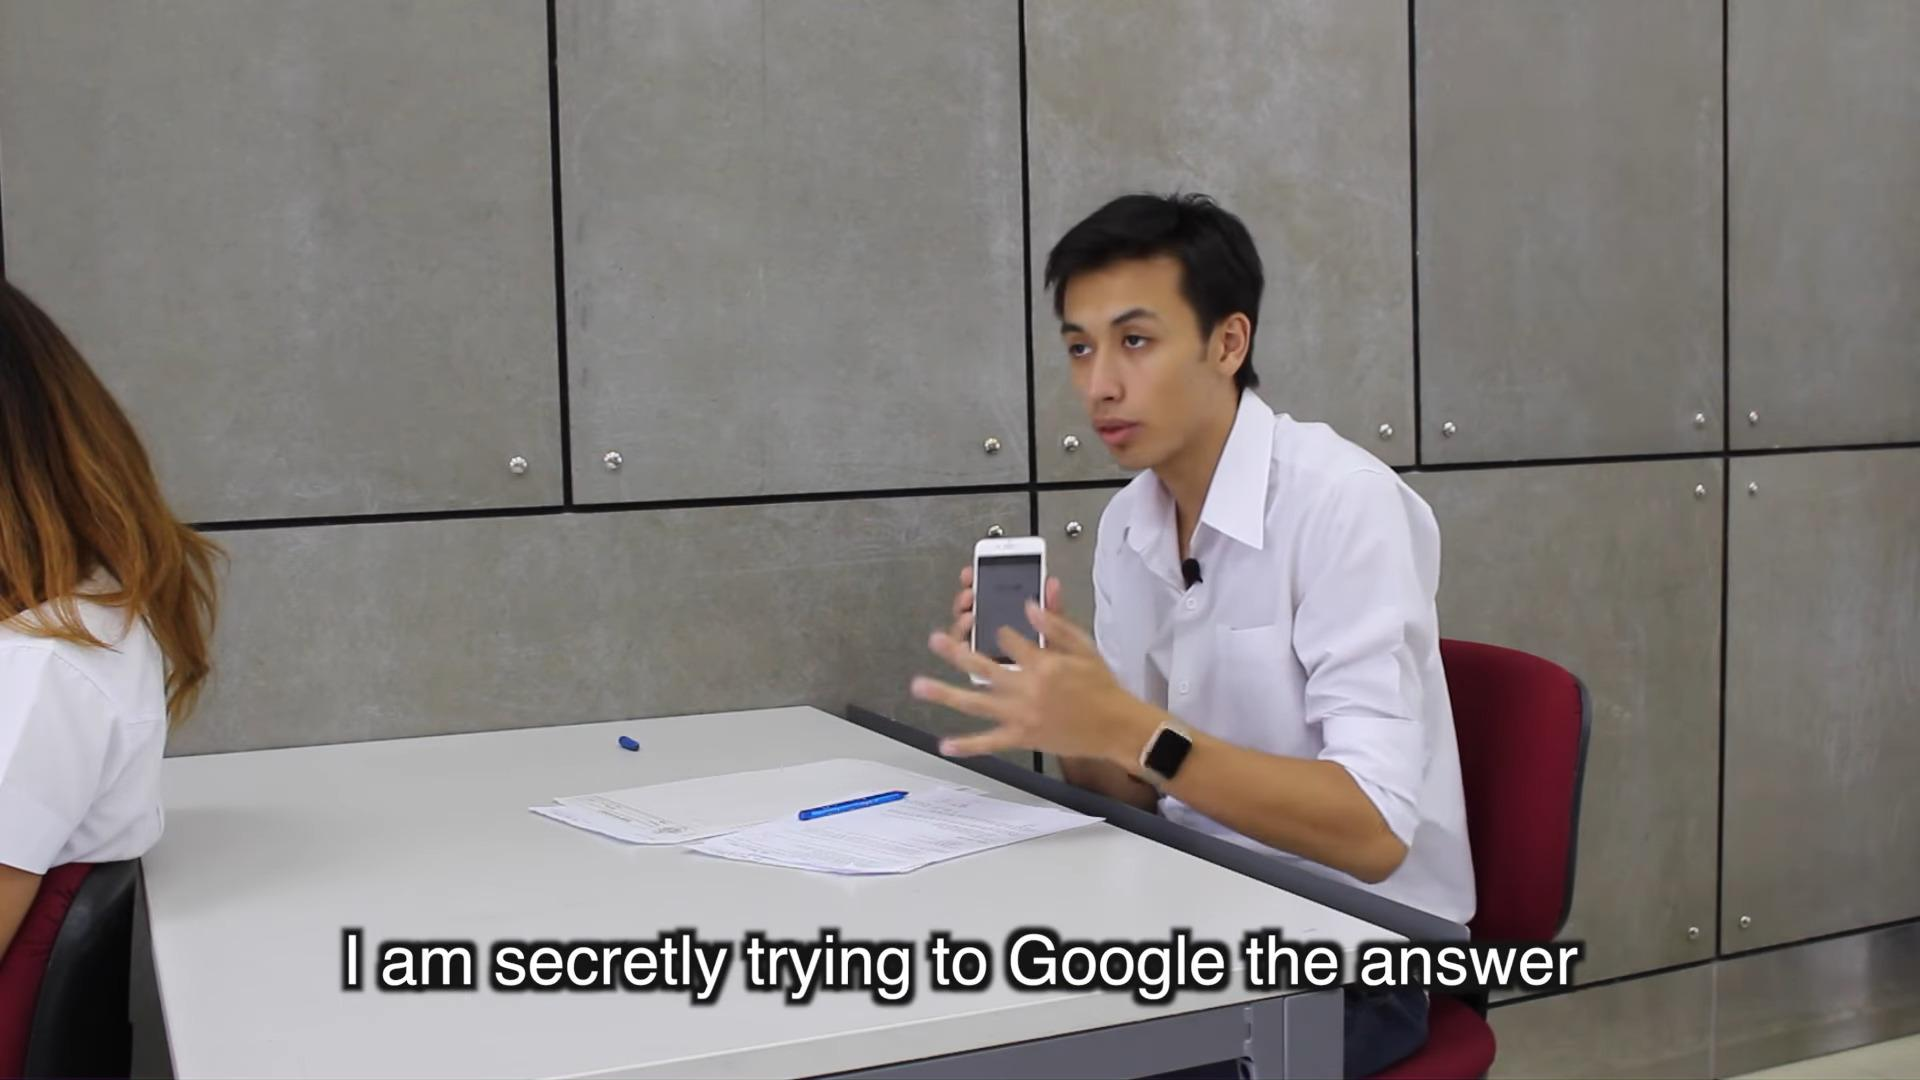cheating: (516, 166, 1495, 910)
